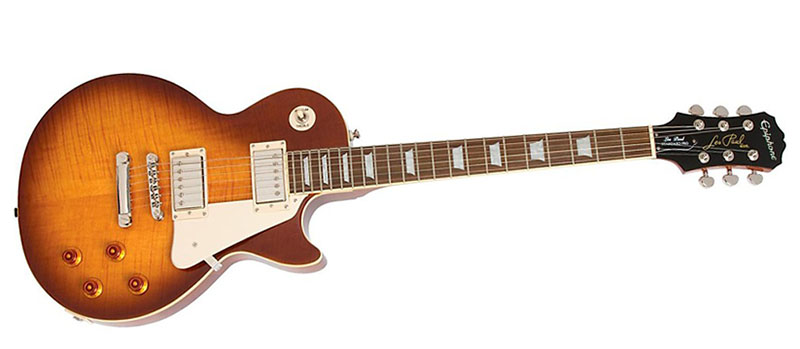ElectricGuitar: (14, 74, 791, 330)
